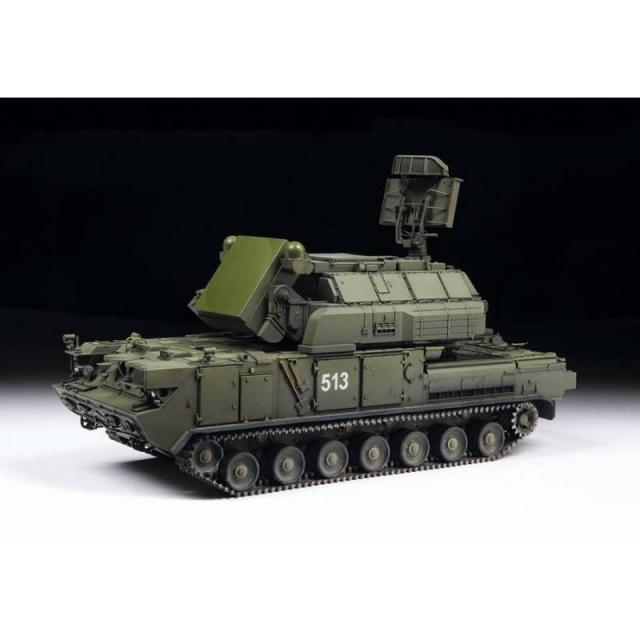MIL_EW_RDR: (55, 152, 575, 496)
